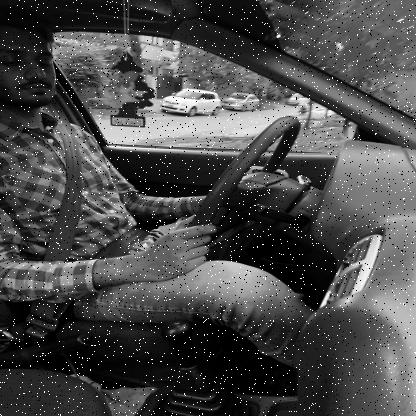seatbelt: (0, 13, 94, 252)
